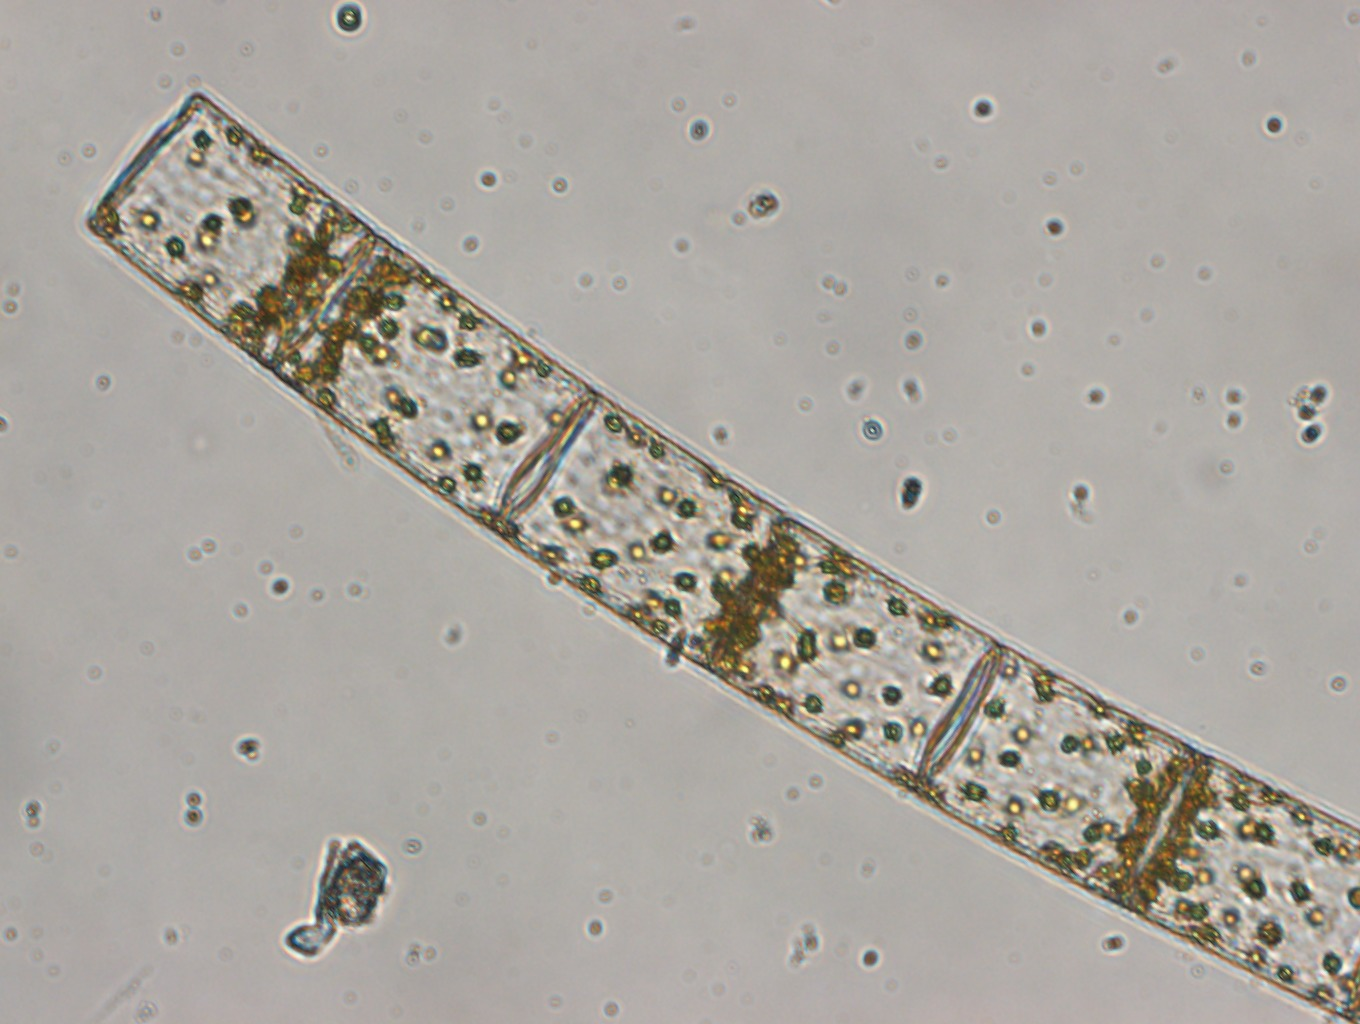guinardia flaccida: (83, 86, 1360, 1023)
